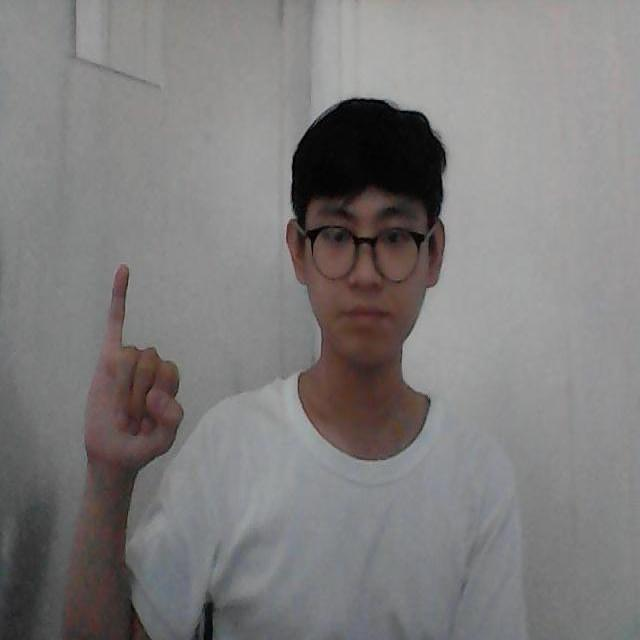I: (83, 259, 186, 461)
